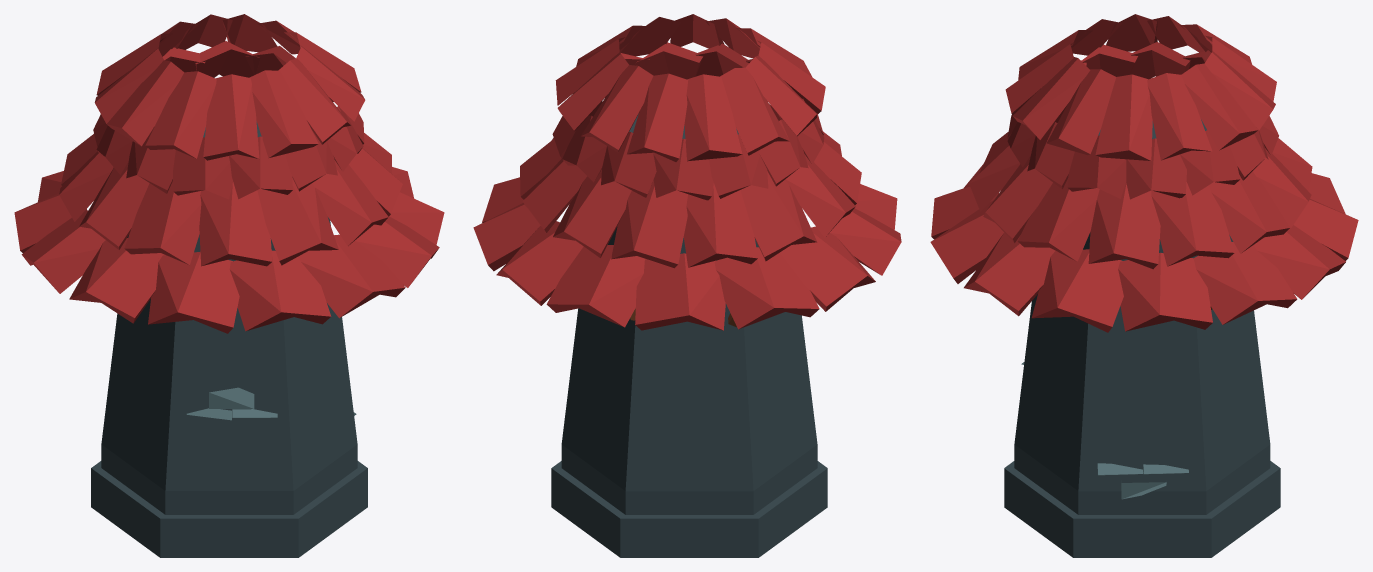
File: Tower.fbx
3 renders of one model, left to right at view 1: azimuth 30°, elevation 25°; view 2: azimuth 150°, elevation 25°; view 3: azimuth 270°, elevation 25°, orthographic.
Visible parts, largest first — view 1: Cube; view 2: Cube; view 3: Cube.
Boxes of the visible parts, x1=… form: Cube: x1=14, y1=14, x2=444, y2=557; Cube: x1=473, y1=14, x2=901, y2=557; Cube: x1=930, y1=14, x2=1358, y2=557.
Size of the model in its own units: 5.32 by 6.3 by 5.28.
